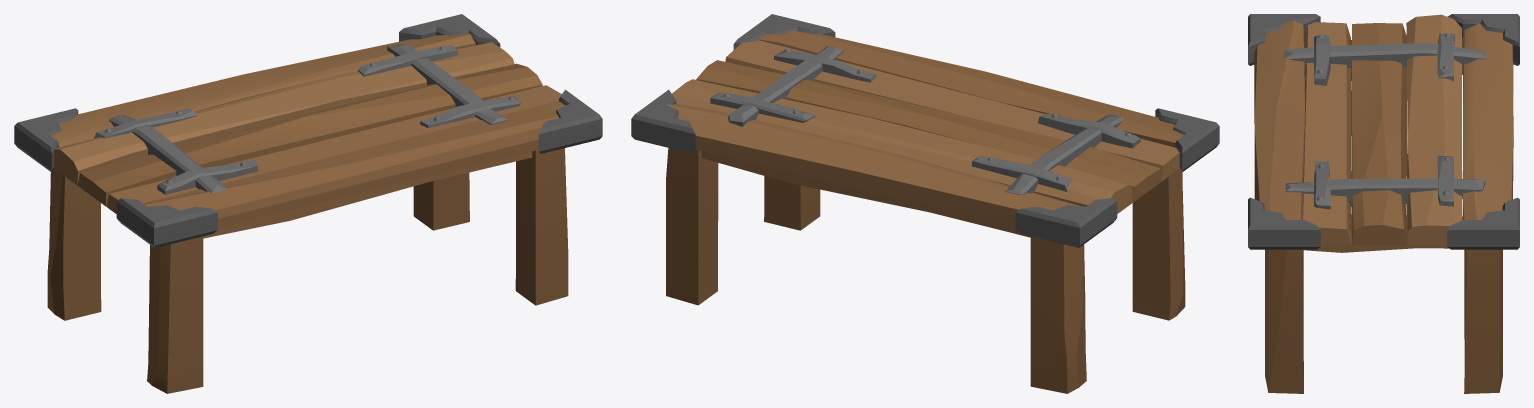
The model's file is Table_D.fbx.
3 views of the same model, side by side, from view 1: azimuth 30°, elevation 25°; view 2: azimuth 150°, elevation 25°; view 3: azimuth 270°, elevation 25° (orthographic). The views are drawn at different scales.
Parts seen in each view (by area): view 1: Table_D; view 2: Table_D; view 3: Table_D.
Boxes of the visible parts, box(x1,y1,x2,y2) form: Table_D: box(14, 14, 602, 393); Table_D: box(631, 14, 1219, 393); Table_D: box(1248, 14, 1519, 393).
Bounding box in the file's own units: 251 × 102 × 135.
